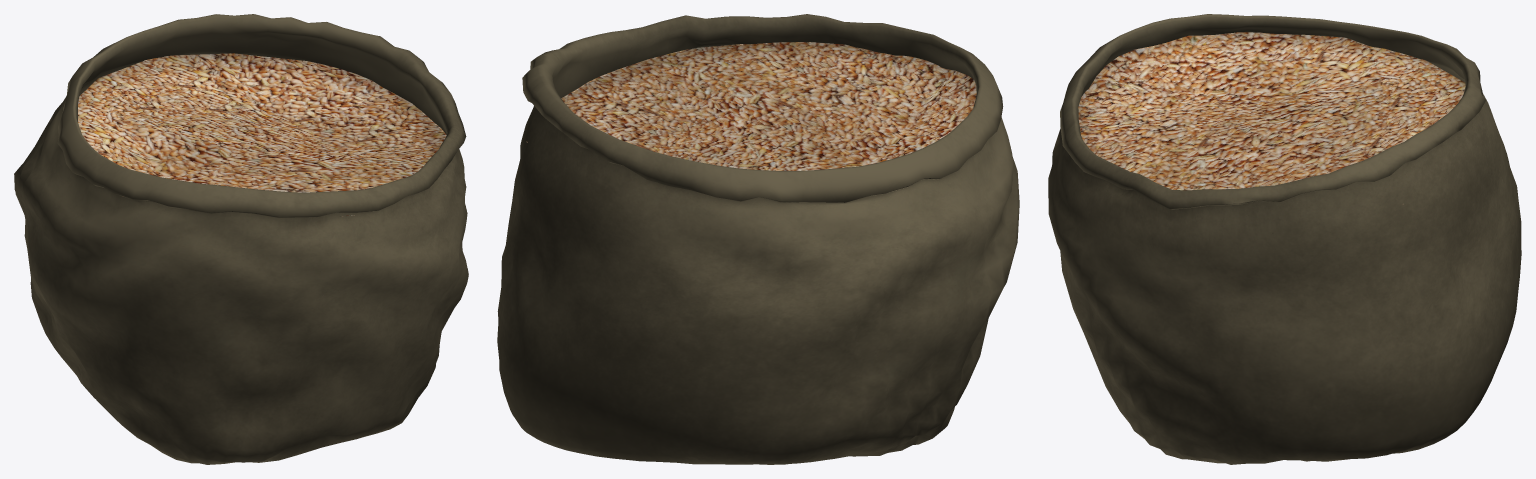
The model's file is bag_2.glb.
The picture shows the model from 3 angles, left to right: view 1: azimuth 30°, elevation 25°; view 2: azimuth 150°, elevation 25°; view 3: azimuth 270°, elevation 25°; orthographic projection. The views are drawn at different scales.
Visible parts, largest first — view 1: bag_2; view 2: bag_2; view 3: bag_2.
Boxes of the visible parts, left/top/right/bottom form: bag_2: left=14, top=14, right=468, bottom=464; bag_2: left=497, top=14, right=1019, bottom=464; bag_2: left=1048, top=14, right=1521, bottom=464.
Size of the model in its own units: 0.4921 by 0.398 by 0.504.
Materials: 1 (1 with a texture image).
